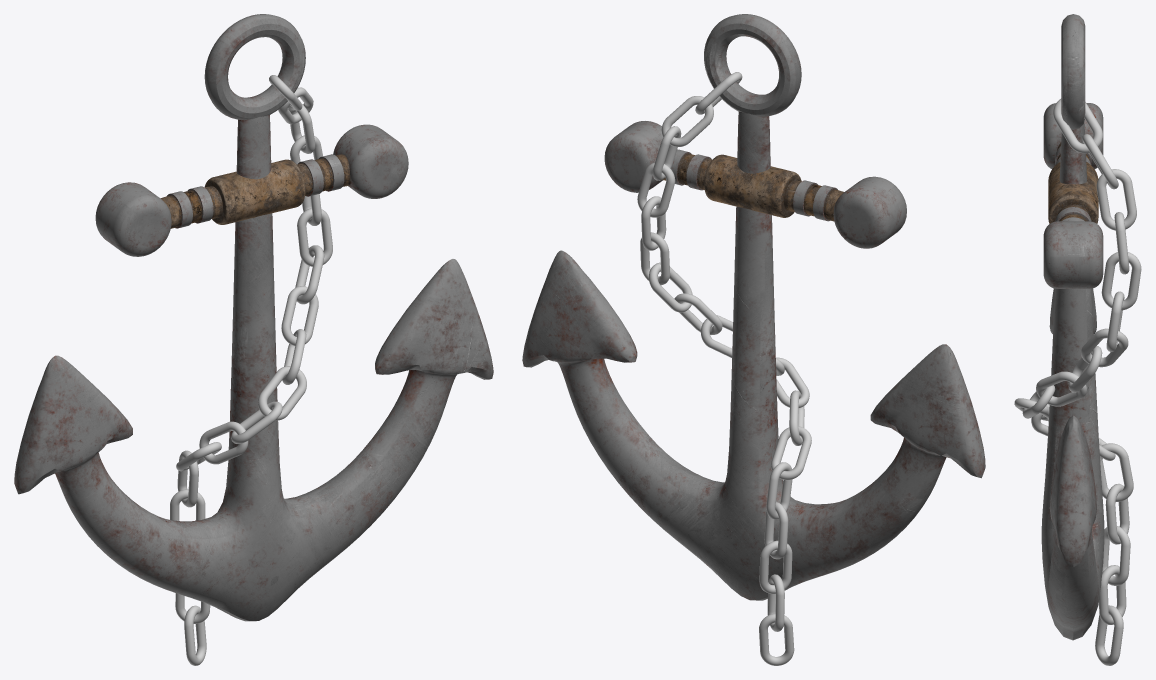
3 renders of one model, left to right at view 1: azimuth 30°, elevation 25°; view 2: azimuth 150°, elevation 25°; view 3: azimuth 270°, elevation 25°, orthographic. The views are drawn at different scales.
Visible parts, largest first — view 1: Anchor2_1, Chains_0; view 2: Anchor2_1, Chains_0; view 3: Anchor2_1, Chains_0.
Boxes of the visible parts, left/top/right/bottom form: Anchor2_1: left=14, top=14, right=493, bottom=621; Chains_0: left=170, top=75, right=332, bottom=665; Anchor2_1: left=522, top=14, right=985, bottom=600; Chains_0: left=637, top=72, right=811, bottom=665; Anchor2_1: left=1041, top=14, right=1104, bottom=640; Chains_0: left=1014, top=98, right=1141, bottom=665.
Size of the model in its own units: 2.07 by 2.71 by 0.4688.
